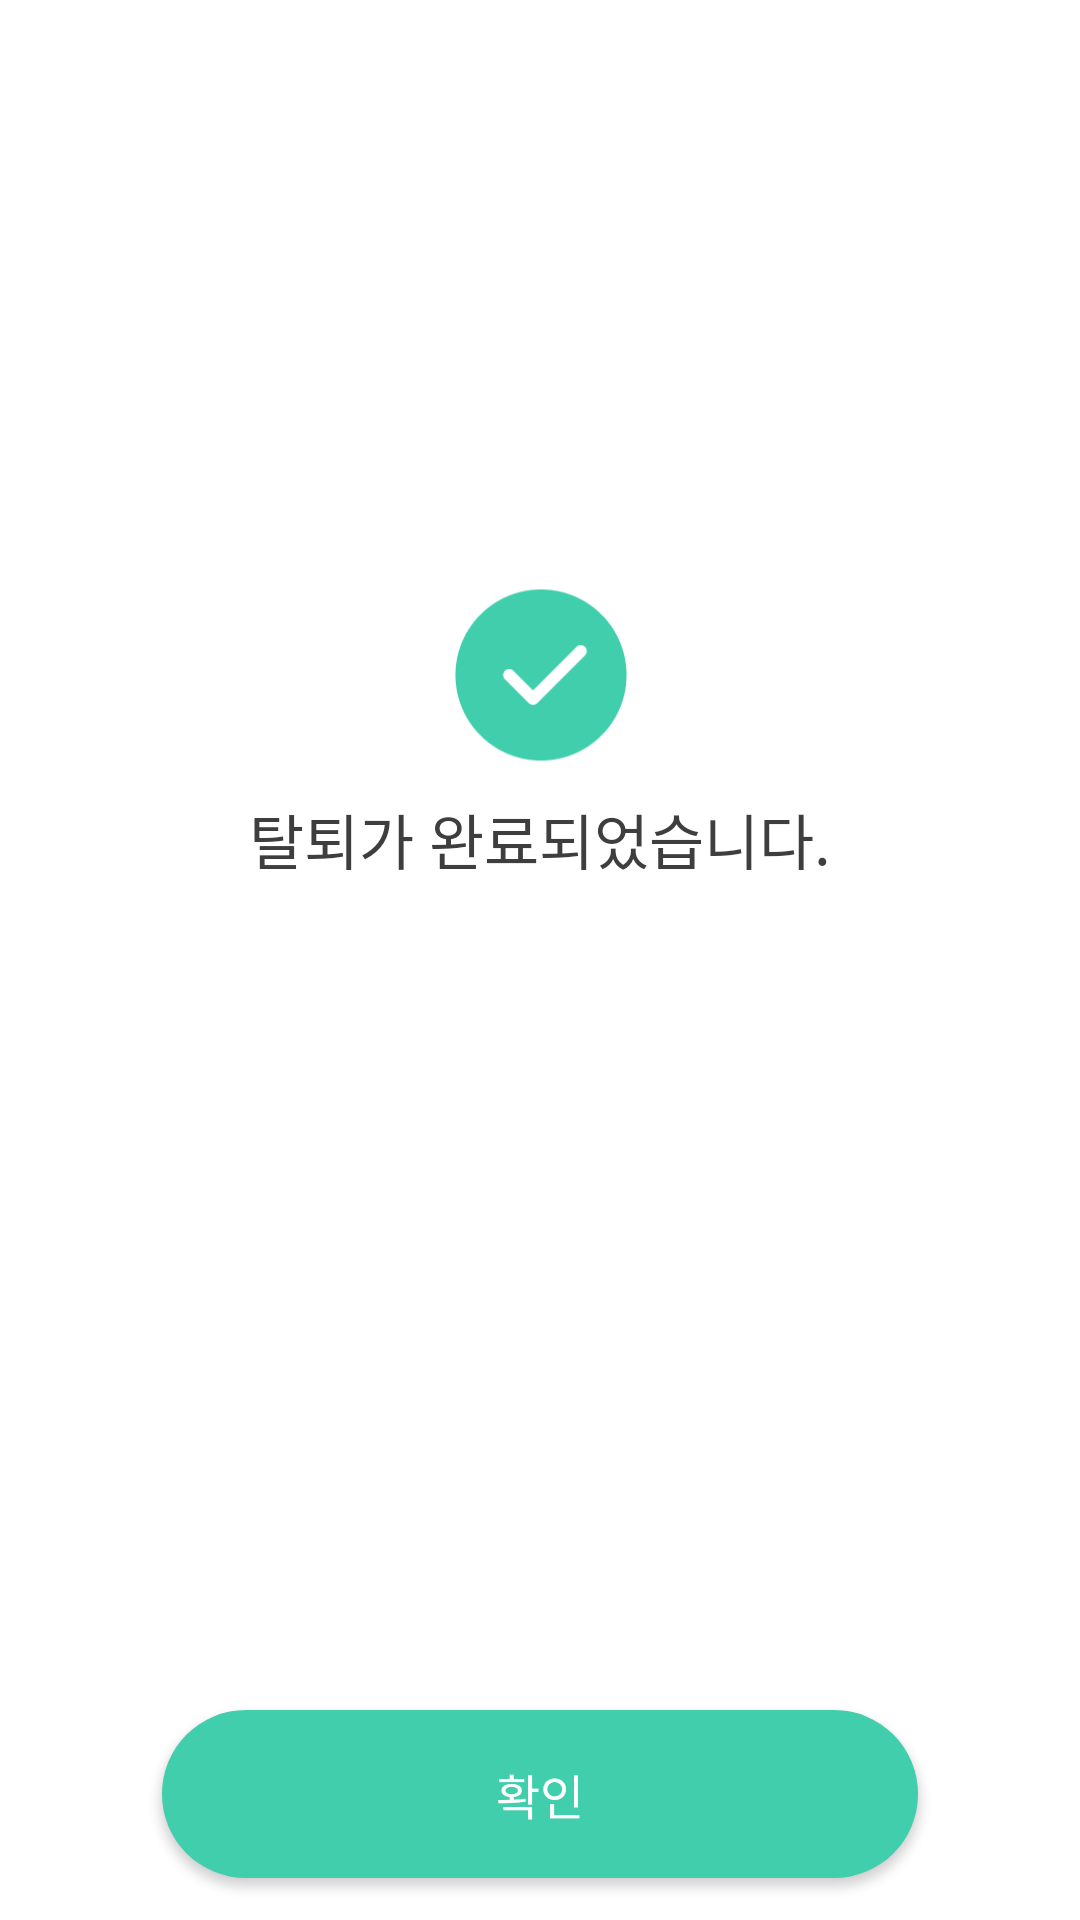

Screen size 1080 x 1920. Icon name, then its center in pixels as (x=x, y=y):
sub check: (x=541, y=675)
